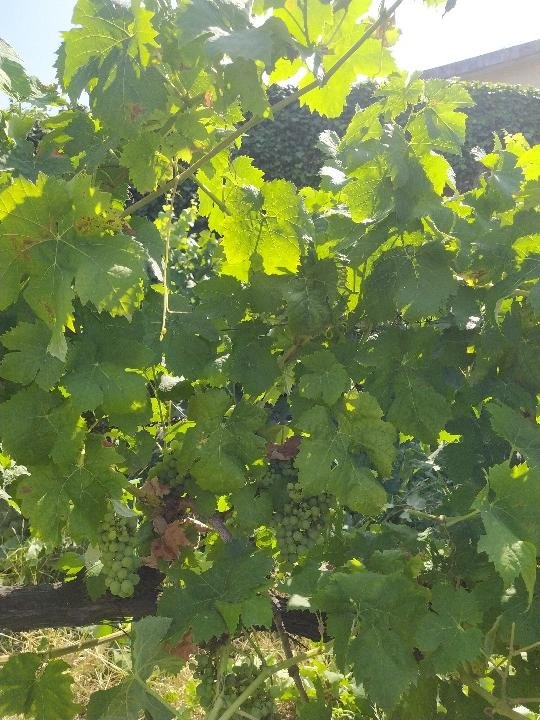grape: (265, 480, 338, 575), (93, 505, 144, 601)
